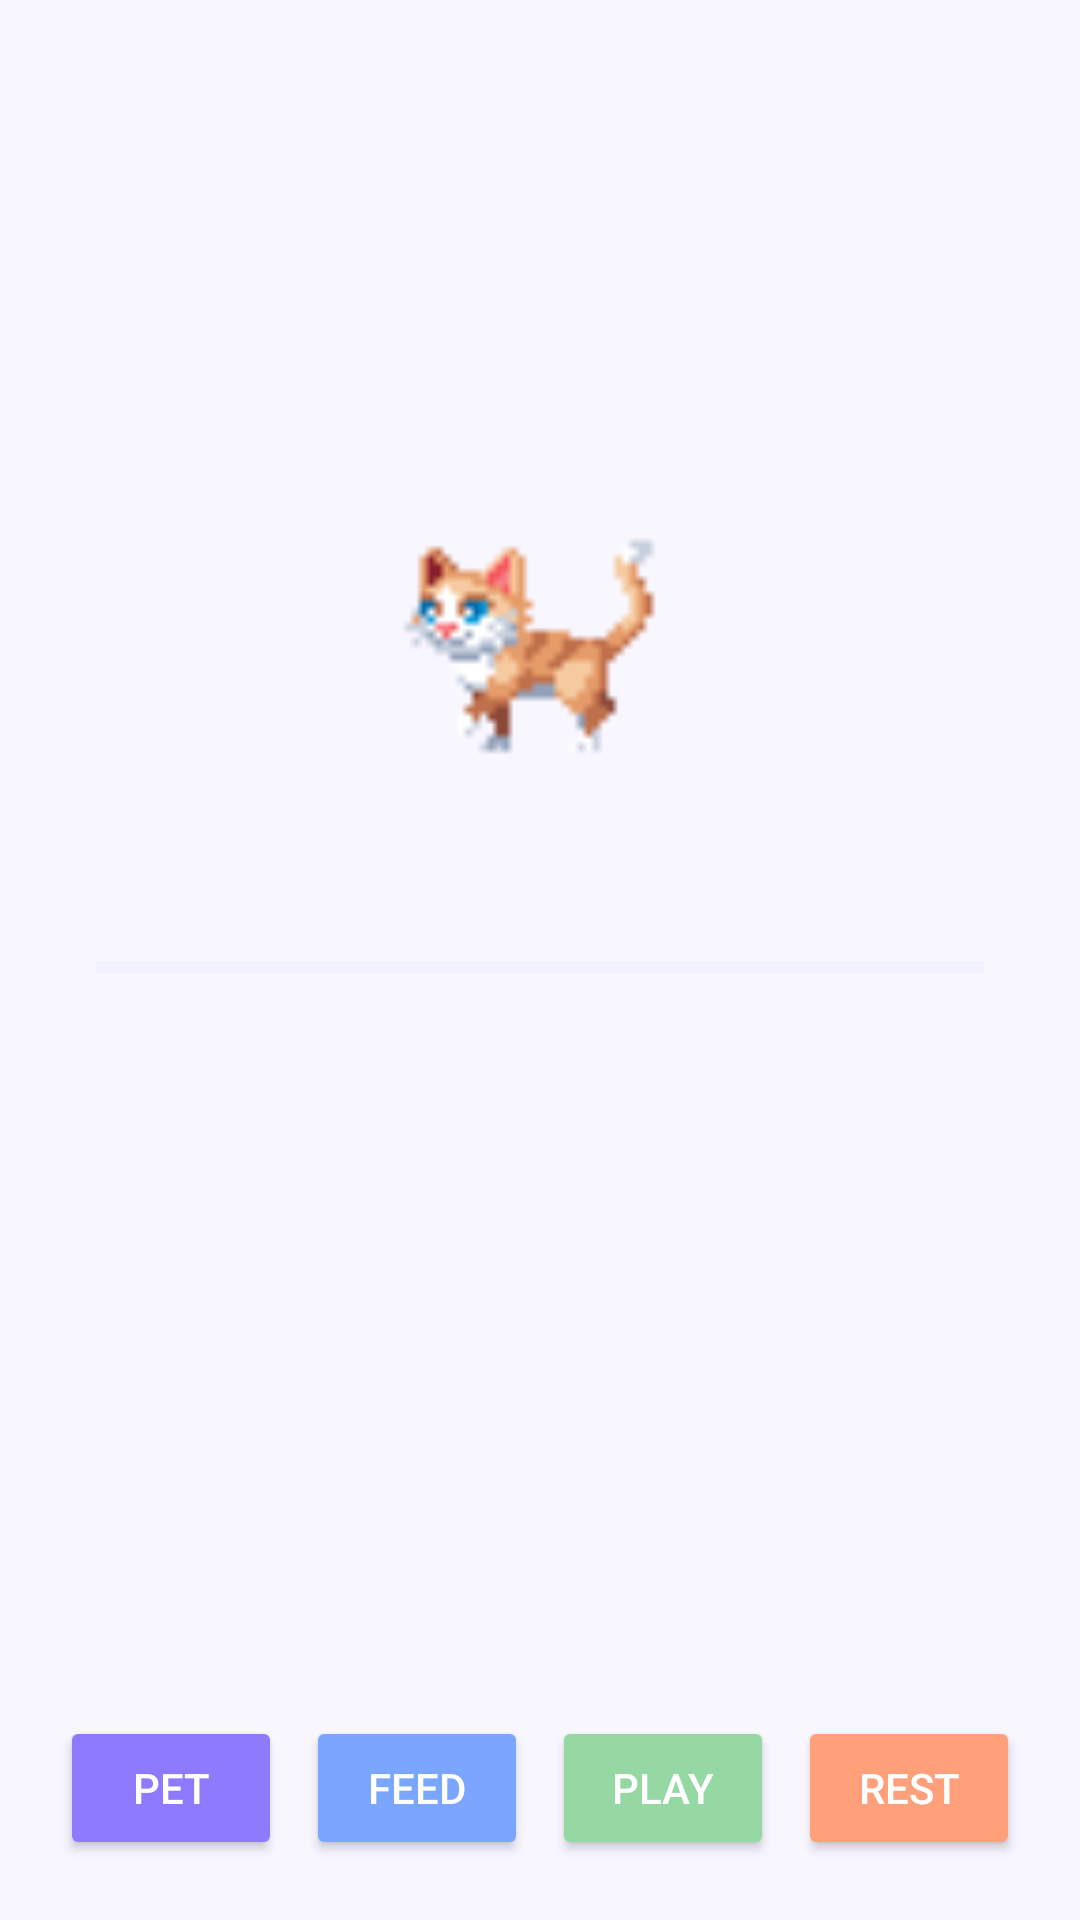

Named icons in this screenshot (1080 × 1920) and their bounding boxes, (x1, y1, x2, y2):
pet cat: (405, 541, 655, 753)
